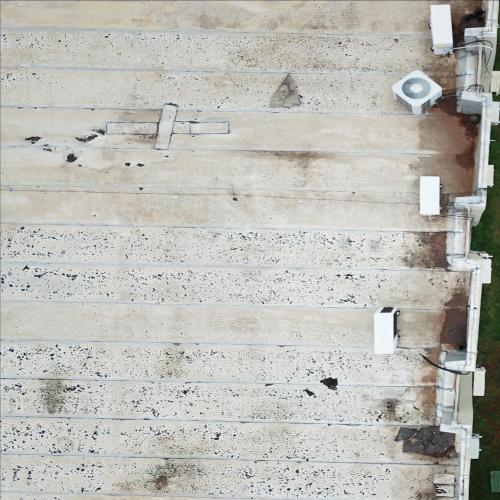conde: (387, 64, 450, 117), (420, 1, 462, 61), (367, 301, 408, 362), (410, 170, 449, 222)
